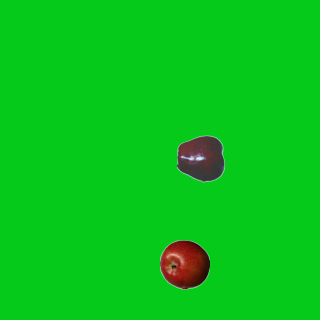Apple Braeburn: (159, 239, 209, 289)
Apple Red Delicious: (176, 133, 226, 183)
